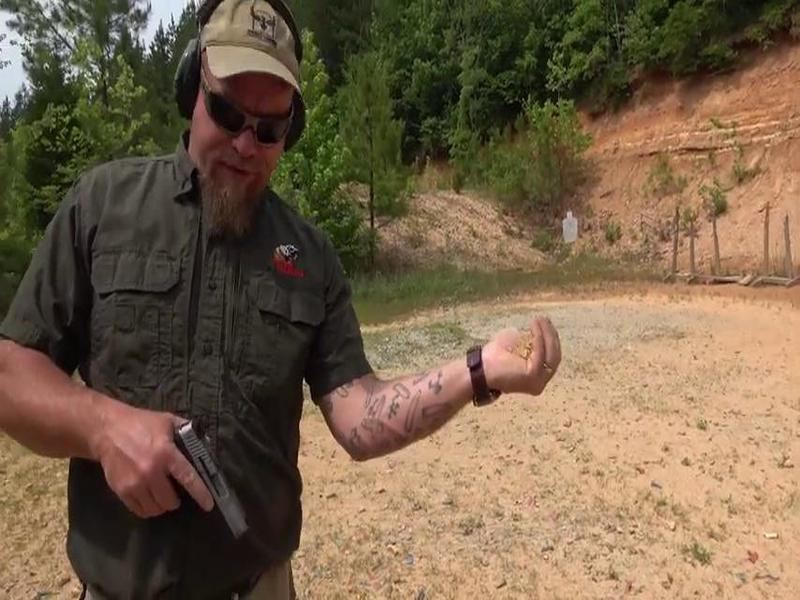Pistola: (166, 414, 261, 542)
Revolver: (166, 414, 260, 546)
